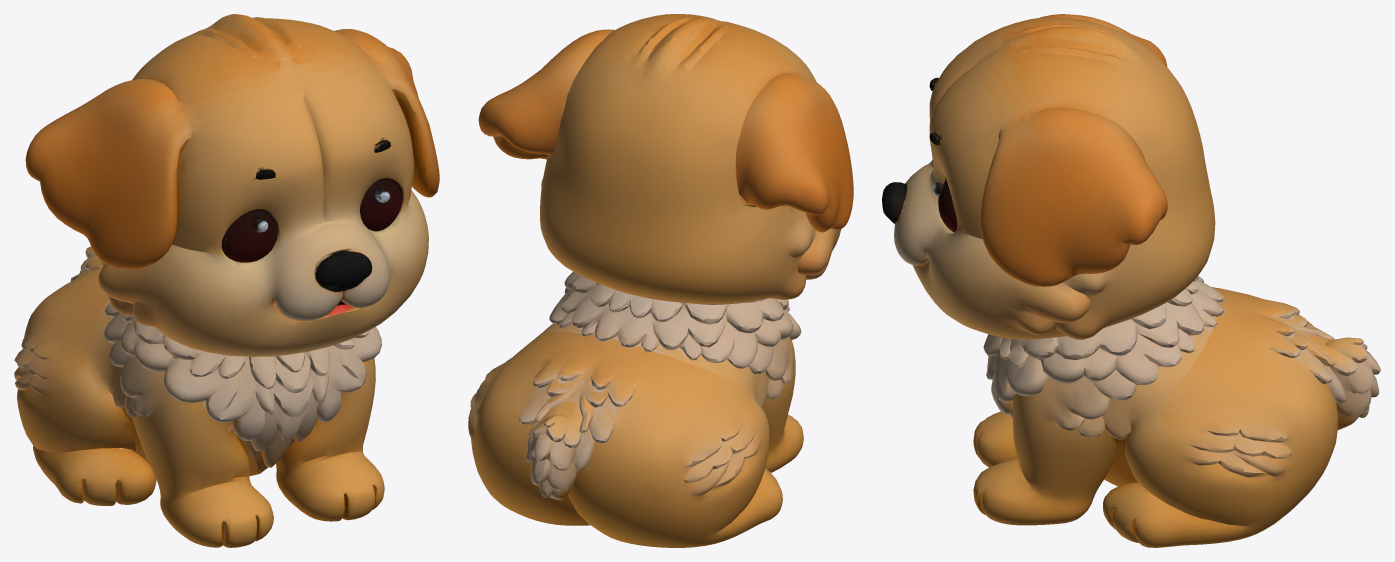
File: dog.fbx
3 renders of one model, left to right at view 1: azimuth 30°, elevation 25°; view 2: azimuth 150°, elevation 25°; view 3: azimuth 270°, elevation 25°, orthographic. The views are drawn at different scales.
Parts seen in each view (by area): view 1: texture_v128_online; view 2: texture_v128_online; view 3: texture_v128_online.
Boxes of the visible parts, x1=… form: texture_v128_online: x1=14, y1=14, x2=439, y2=547; texture_v128_online: x1=468, y1=14, x2=853, y2=547; texture_v128_online: x1=882, y1=14, x2=1380, y2=547.
Bounding box in the file's own units: 159 × 190 × 189.
1 material, 1 textured.
